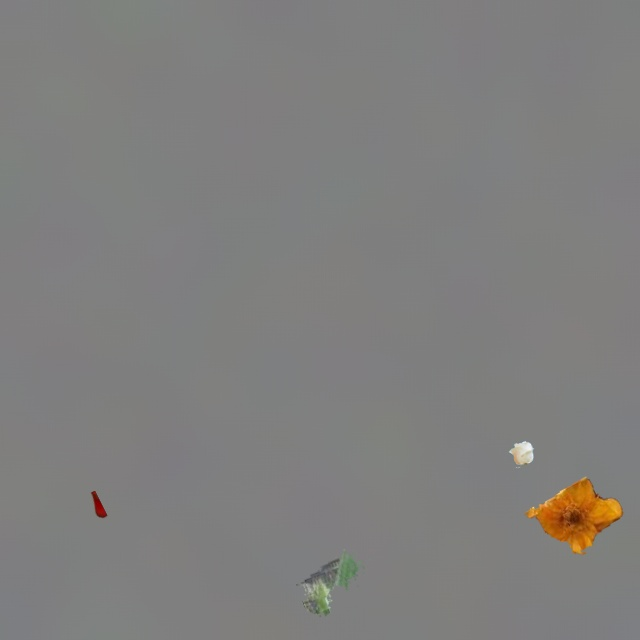jasmine: (525, 477, 622, 554), (297, 550, 370, 616)
rose: (509, 441, 533, 467)
wallflower: (91, 491, 106, 517)
